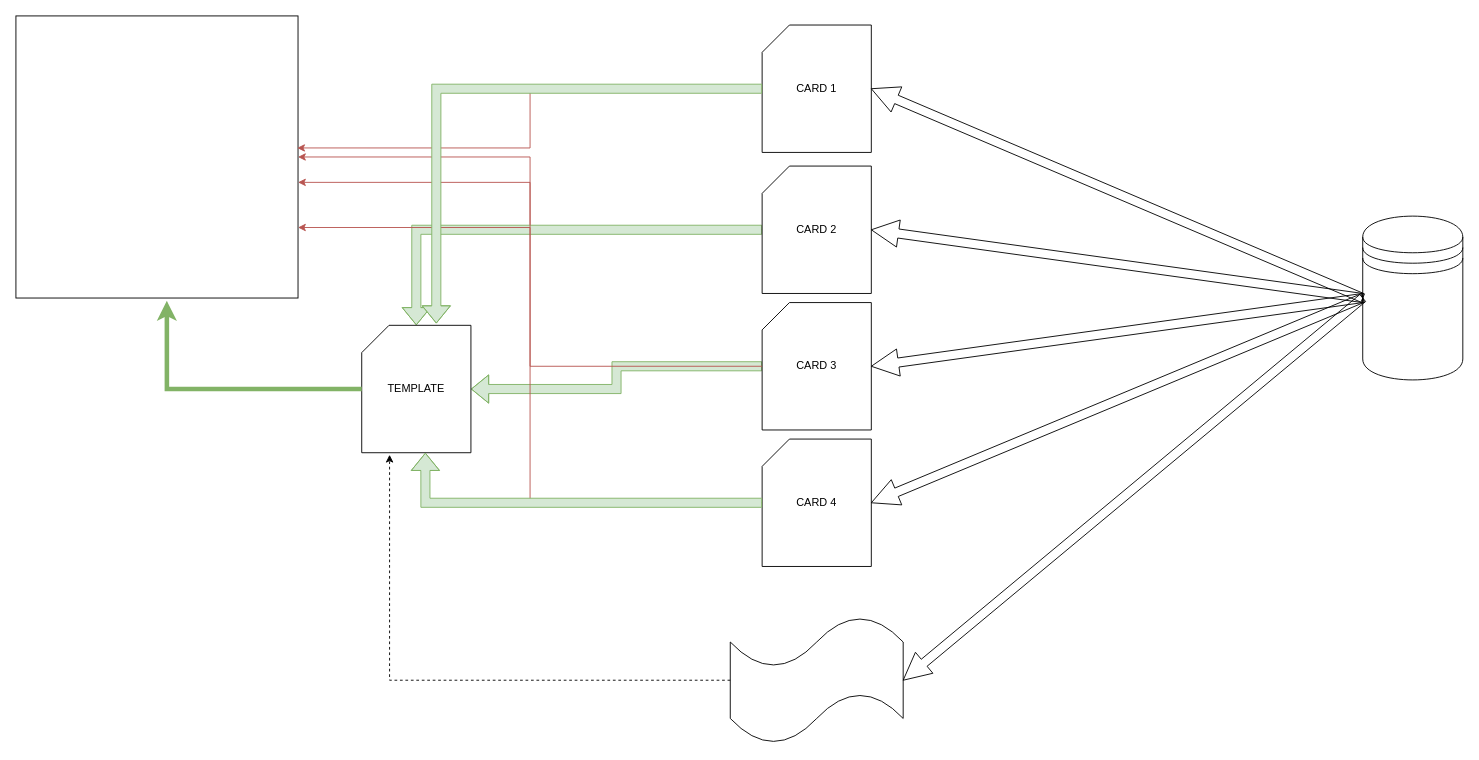
Image size: 1479x760. Some labels were removed from this diagram. Here are the shapes that lost their labels. From the top down, the centre of each, then its label:
At point (156, 156): "TELA ROOT".
At point (1412, 297): "JSON".
At point (816, 680): "Extras.py".
